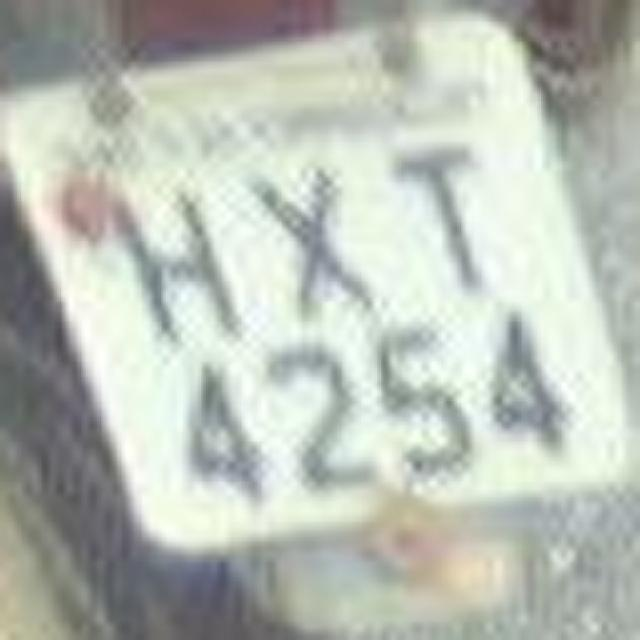2: (248, 325, 384, 500)
4: (464, 284, 576, 491), (160, 344, 280, 524)
5: (360, 316, 475, 489)
H: (120, 169, 240, 356)
T: (376, 116, 524, 309)
X: (236, 156, 384, 312)
